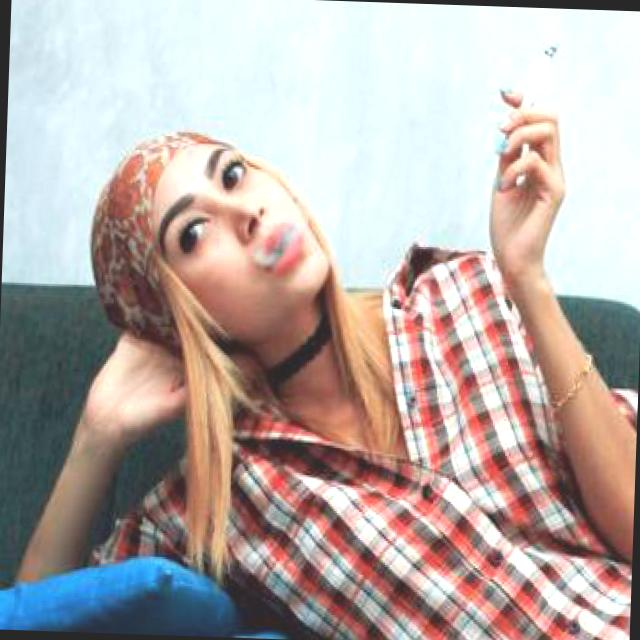smoke: (488, 38, 559, 166)
